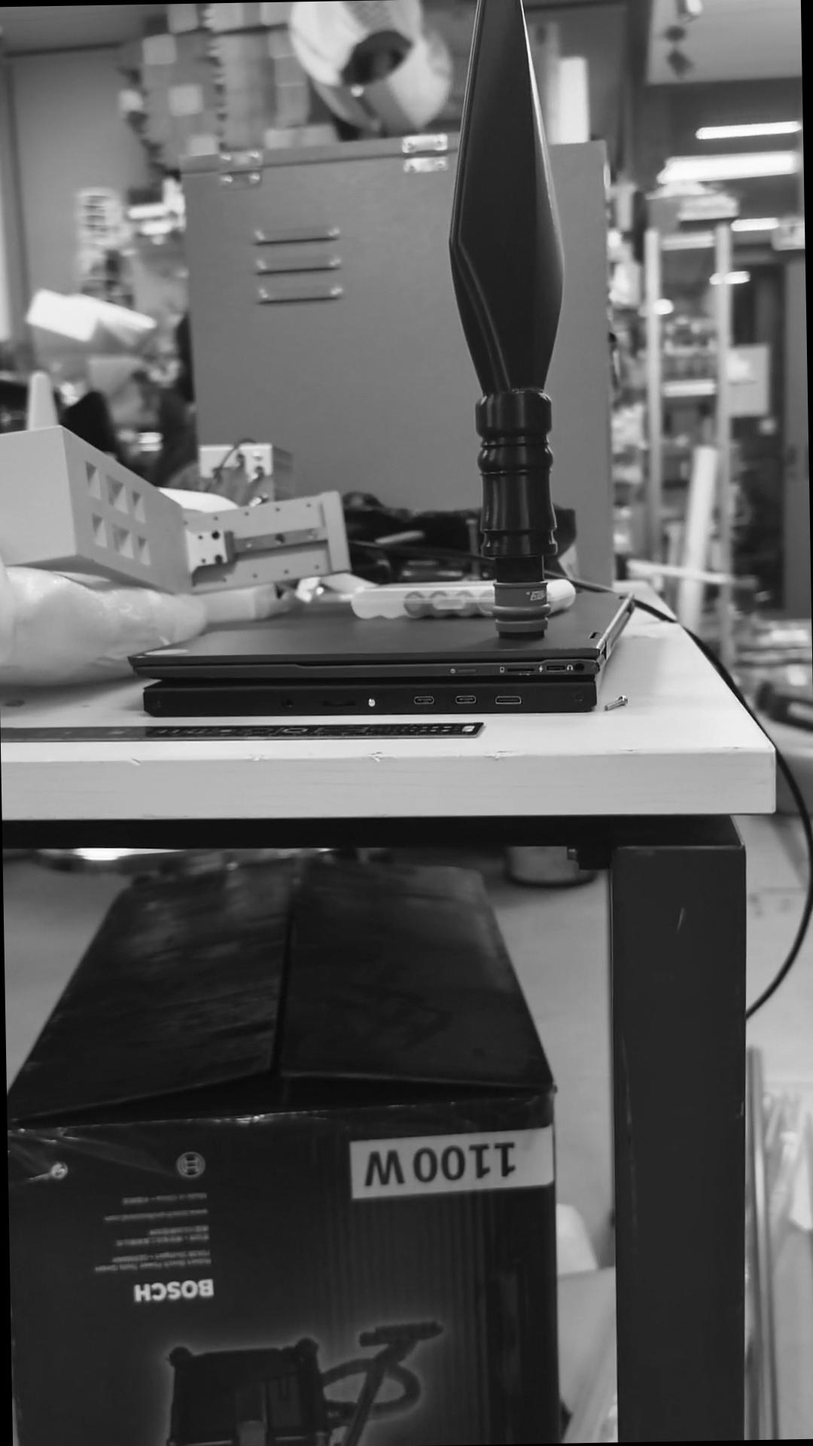base: (482, 578, 558, 644)
